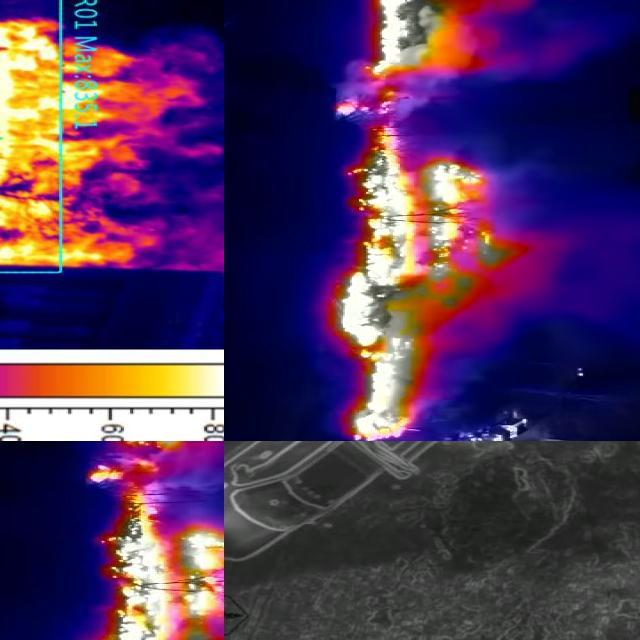fire: (327, 91, 513, 442), (1, 7, 225, 282), (84, 505, 225, 640), (360, 1, 480, 84), (80, 459, 216, 505)
